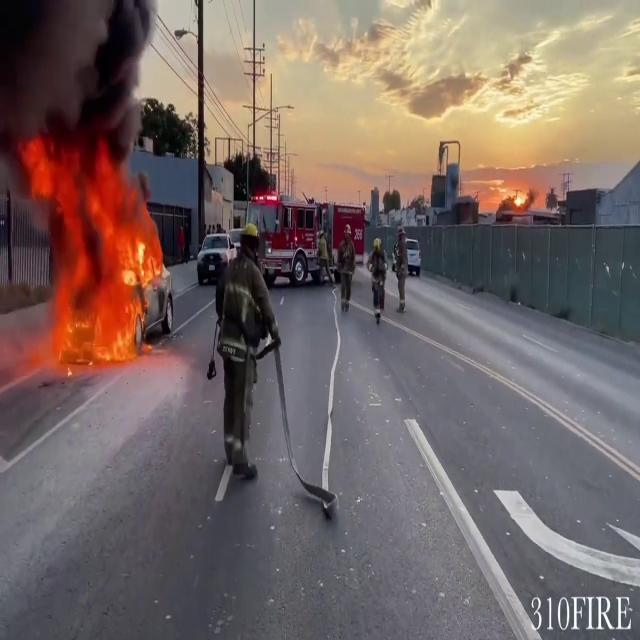Fire: (20, 154, 163, 370)
Smoke: (0, 0, 160, 197)
